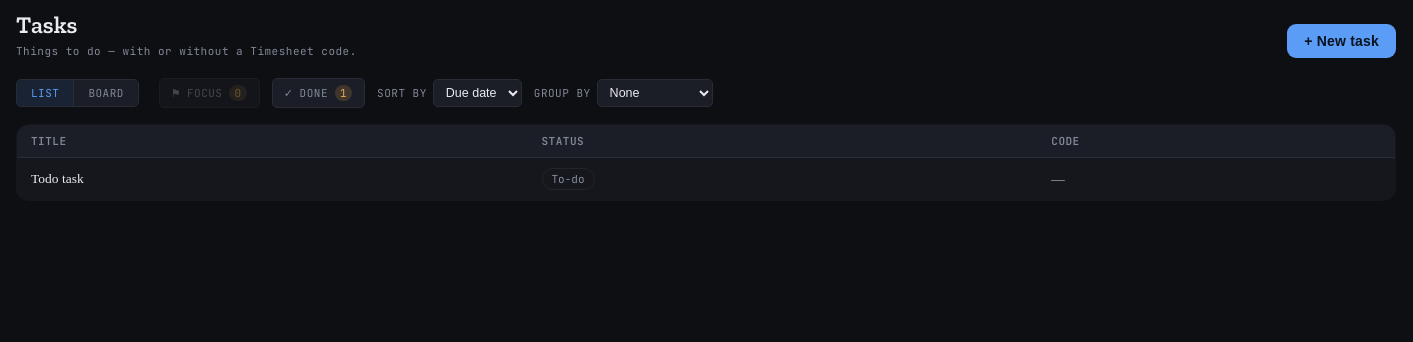
Test: TasksScreen › groups tasks by status when requested
This screenshot has width=1413, height=342.
Click the button with test id "wk-task-show-done" at x=318, y=93, box left=272, top=78, right=365, bottom=108
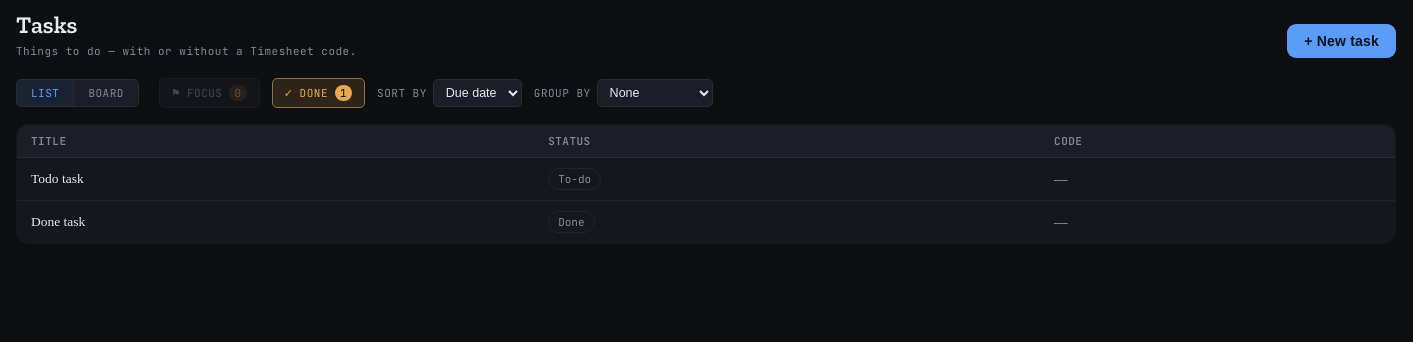
Select "Status" in the dropdown with test id "wk-task-group-select" at x=655, y=93, box left=597, top=79, right=713, bottom=107
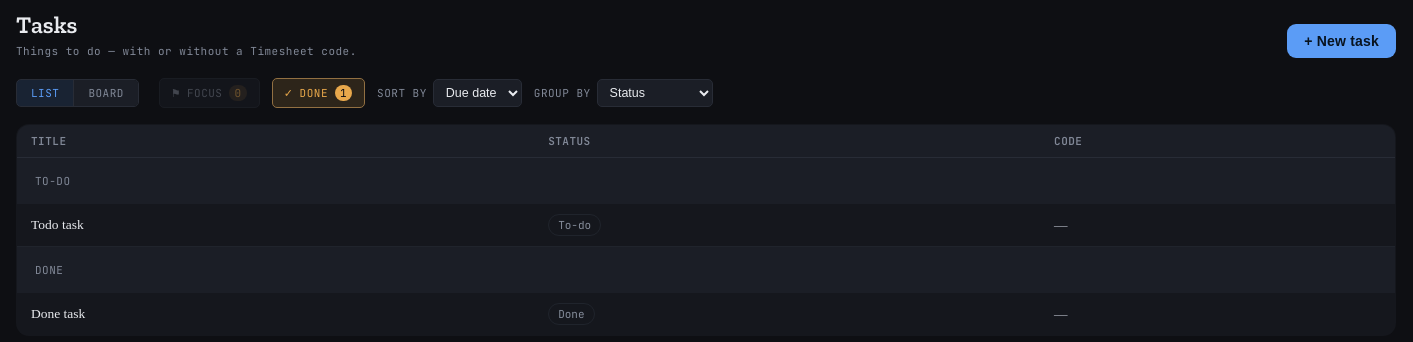
Expected: the number of elements with class "wk-task-group-title" is 2, left=35, top=174, right=70, bottom=188; left=35, top=263, right=63, bottom=277
